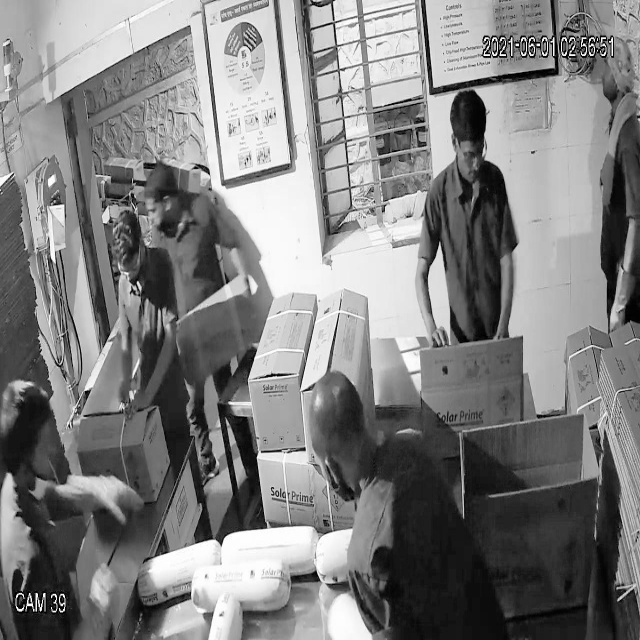Gafas: (110, 247, 149, 284)
